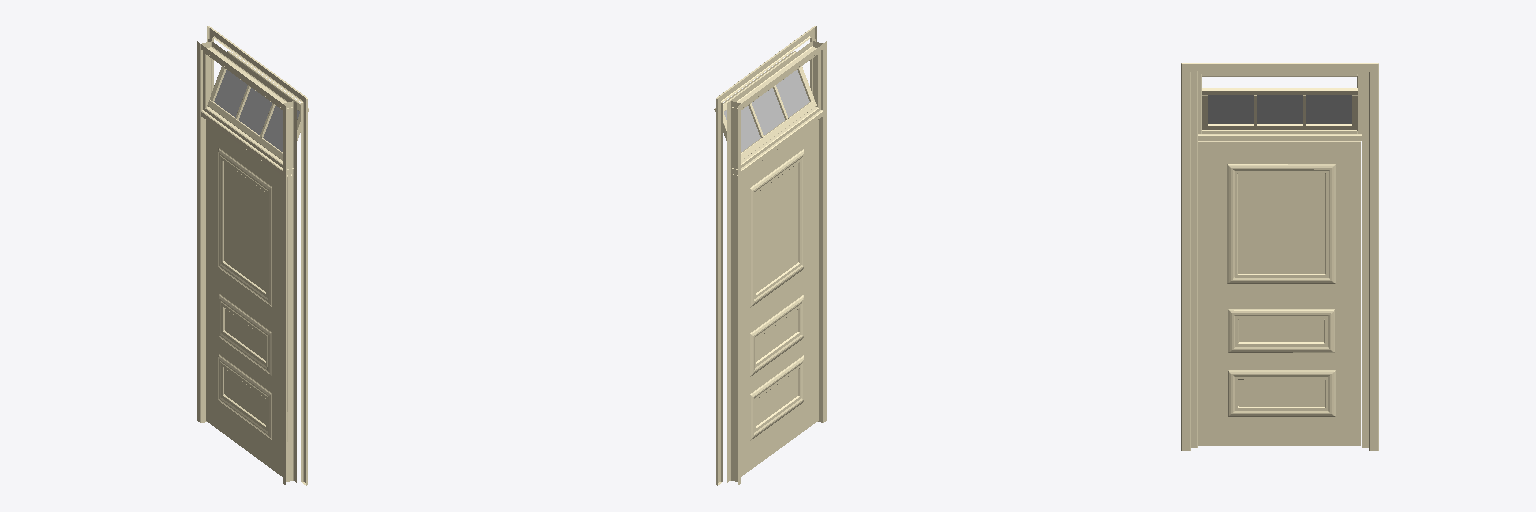
Rendered from door.obj.
The picture shows the model from 3 angles: view 1: azimuth 30°, elevation 25°; view 2: azimuth 150°, elevation 25°; view 3: azimuth 270°, elevation 25°; orthographic projection.
Visible parts, largest first — view 1: Box25.001, doorFrame, door_window, wall.011; view 2: Box25.001, doorFrame, door_window, wall.011; view 3: Box25.001, wall.011, doorFrame, door_window.
Part boxes in pixels (left/top/right/bottom): Box25.001: left=206, top=120, right=292, bottom=476; doorFrame: left=197, top=39, right=296, bottom=484; door_window: left=207, top=51, right=308, bottom=160; wall.011: left=207, top=26, right=307, bottom=485; Box25.001: left=741, top=120, right=818, bottom=476; doorFrame: left=727, top=39, right=826, bottom=484; door_window: left=714, top=51, right=816, bottom=160; wall.011: left=716, top=26, right=816, bottom=485; Box25.001: left=1198, top=141, right=1360, bottom=445; wall.011: left=1181, top=63, right=1378, bottom=450; doorFrame: left=1191, top=71, right=1368, bottom=447; door_window: left=1202, top=88, right=1357, bottom=129.
Bounding box in the file's own units: 0.203 × 2.6 × 1.2.